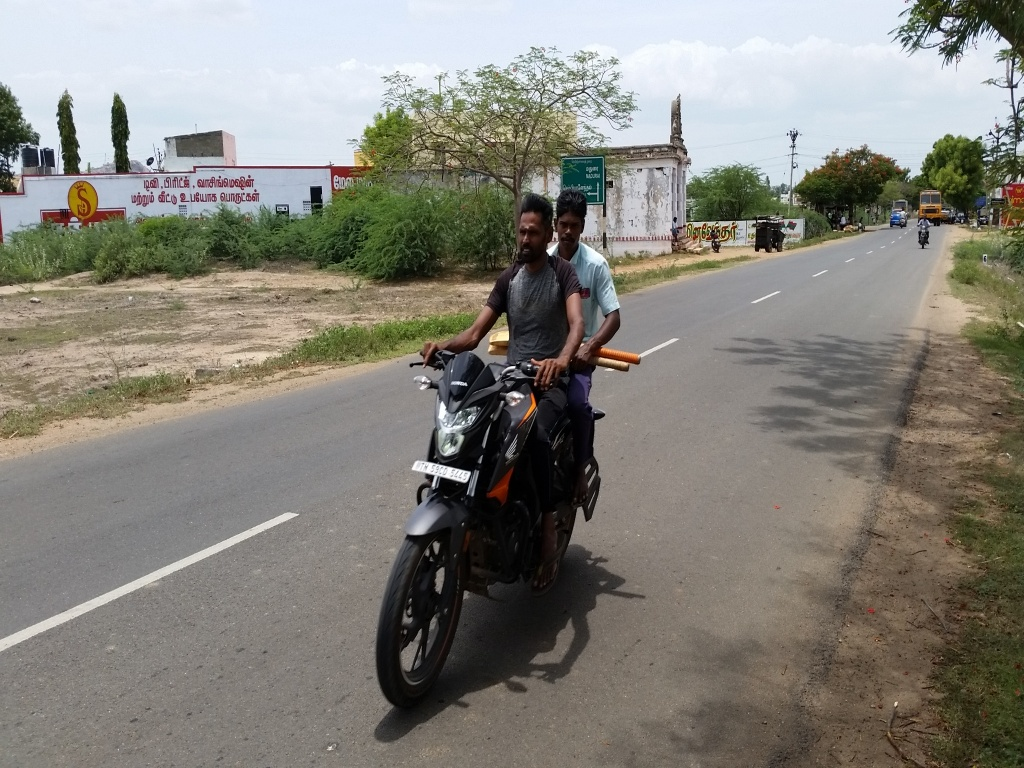biker: (336, 151, 664, 720)
nohelmet: (508, 185, 555, 278), (550, 185, 593, 266)
